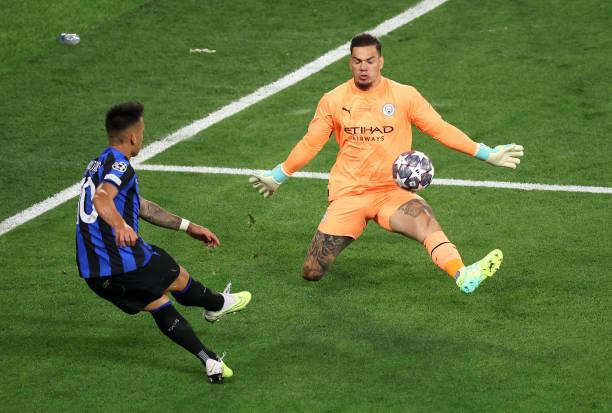Goalkeeper: (250, 33, 524, 292)
Player: (76, 102, 251, 382)
ball: (393, 152, 434, 191)
